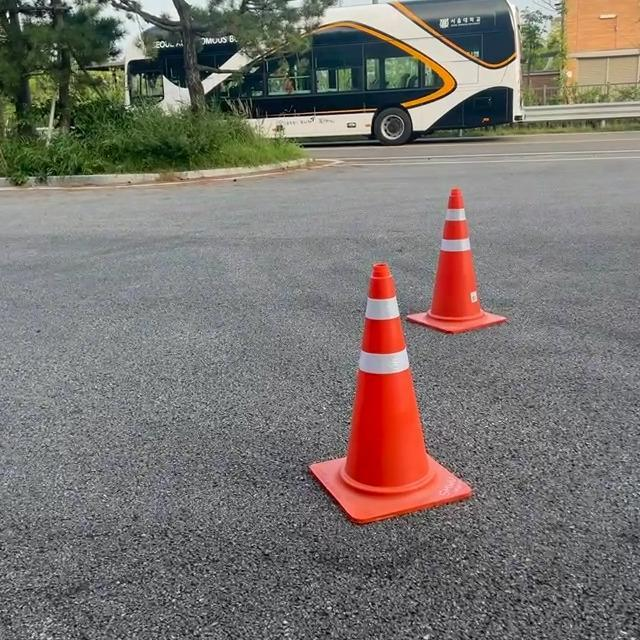fallen_object: (230, 226, 476, 597), (426, 176, 520, 403)
